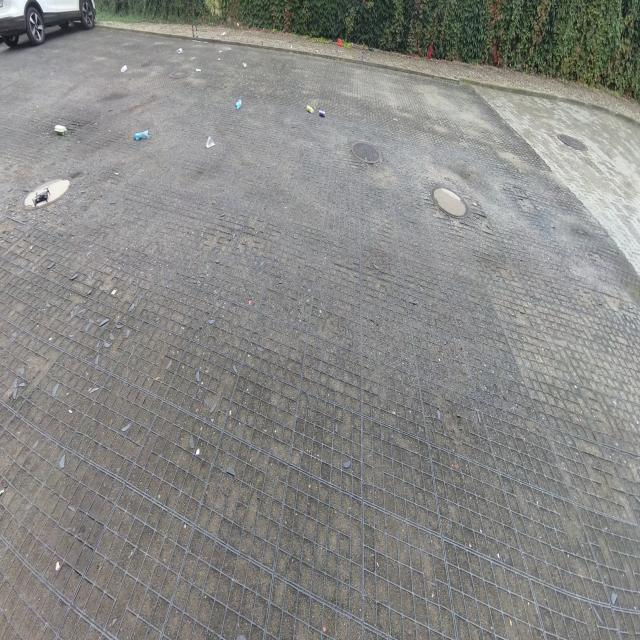rubbish: (132, 128, 151, 142), (53, 123, 68, 137), (206, 135, 216, 149), (235, 97, 242, 109), (193, 40, 209, 44), (306, 105, 314, 113), (121, 63, 128, 72), (336, 39, 344, 46), (242, 63, 249, 70), (319, 110, 326, 117), (367, 47, 375, 53), (220, 30, 226, 37), (176, 48, 184, 53), (196, 66, 202, 72), (361, 51, 364, 62), (192, 22, 194, 37), (195, 24, 197, 38), (315, 50, 319, 55), (290, 45, 294, 49), (219, 50, 222, 55), (218, 55, 220, 62), (227, 48, 231, 51), (261, 40, 262, 45)
